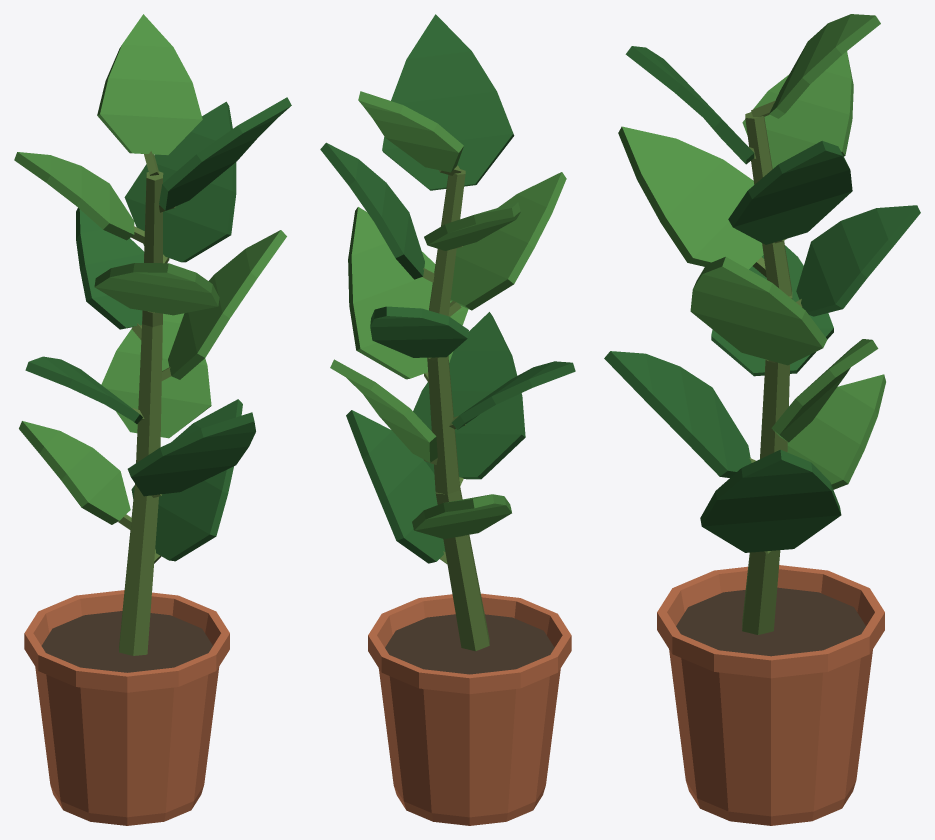
The model's file is SM_LPI_Plant_RubberPlant_01.fbx.
3 views of the same model, side by side, from view 1: azimuth 30°, elevation 25°; view 2: azimuth 150°, elevation 25°; view 3: azimuth 270°, elevation 25° (orthographic). The views are drawn at different scales.
Visible parts, largest first — view 1: SM_LPI_Plant_RubberPlant_01; view 2: SM_LPI_Plant_RubberPlant_01; view 3: SM_LPI_Plant_RubberPlant_01.
Boxes of the visible parts, x1,y1,x2,y2 form: SM_LPI_Plant_RubberPlant_01: [14, 14, 291, 825]; SM_LPI_Plant_RubberPlant_01: [320, 14, 575, 825]; SM_LPI_Plant_RubberPlant_01: [604, 14, 920, 825].
Size of the model in its own units: 0.4085 by 1.18 by 0.417.
